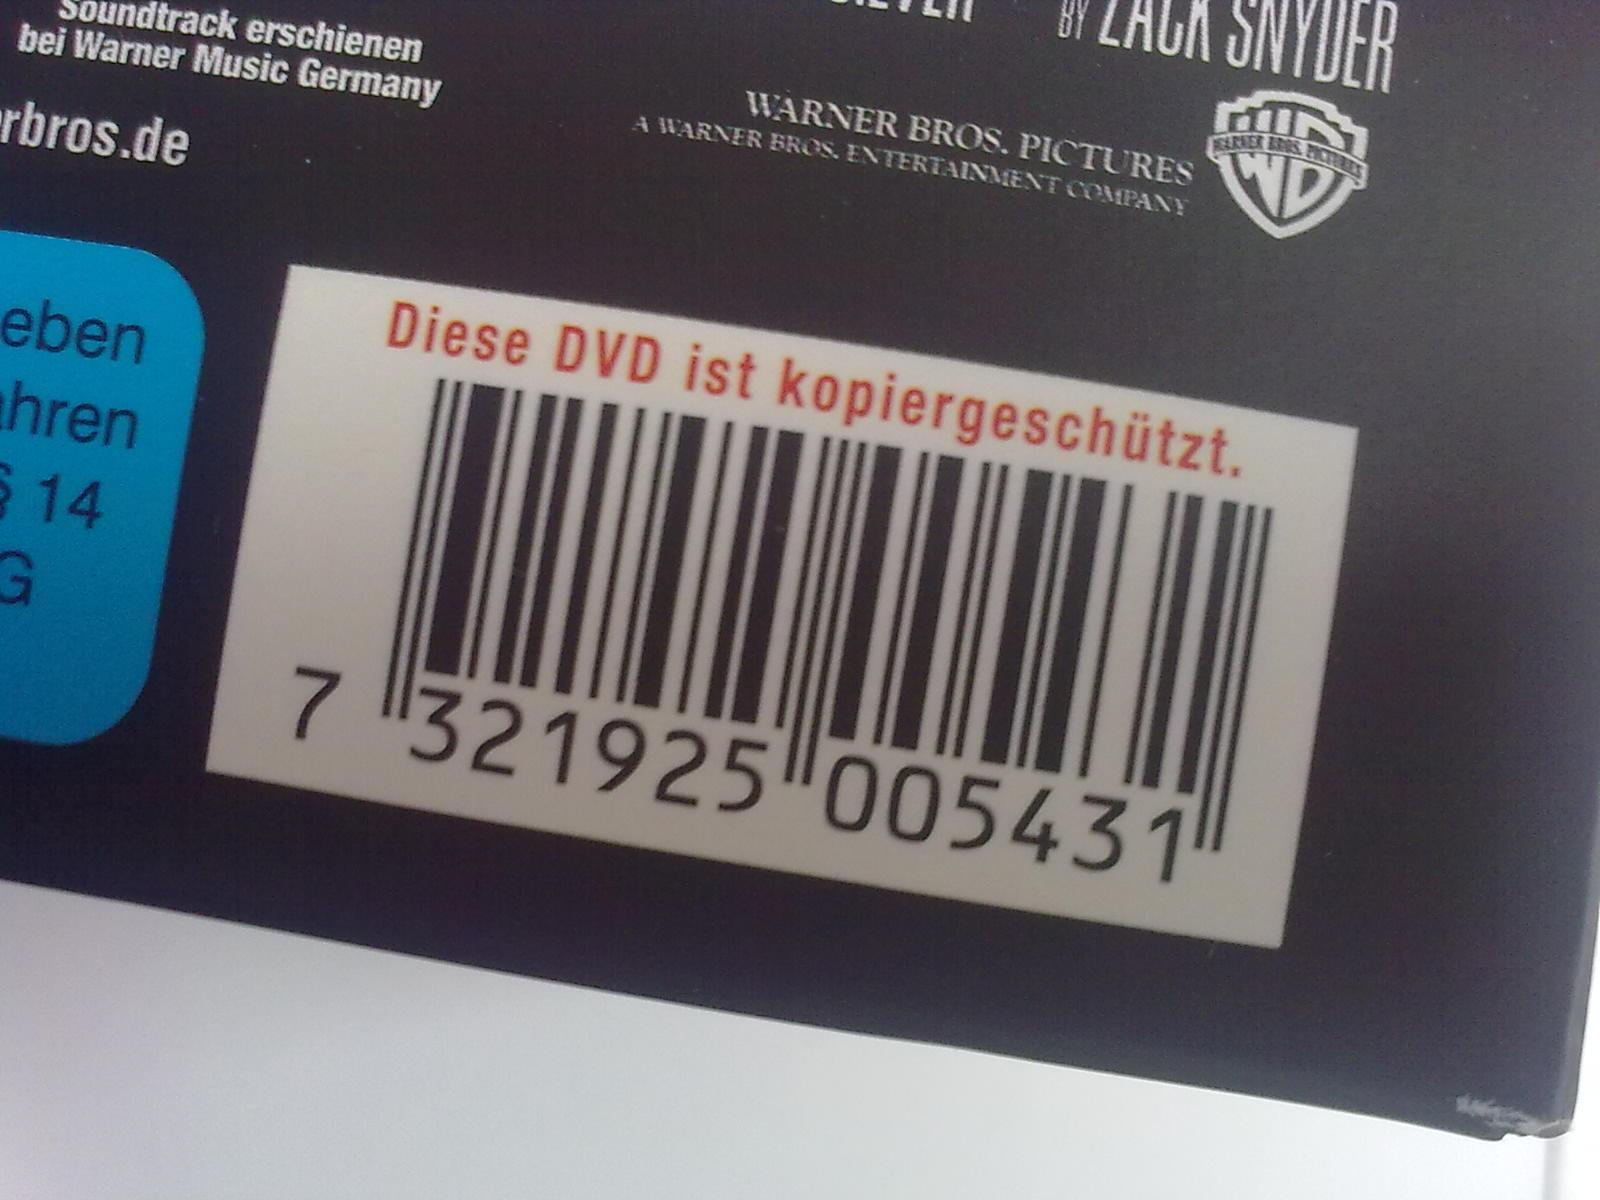barcode: (202, 260, 1361, 948)
